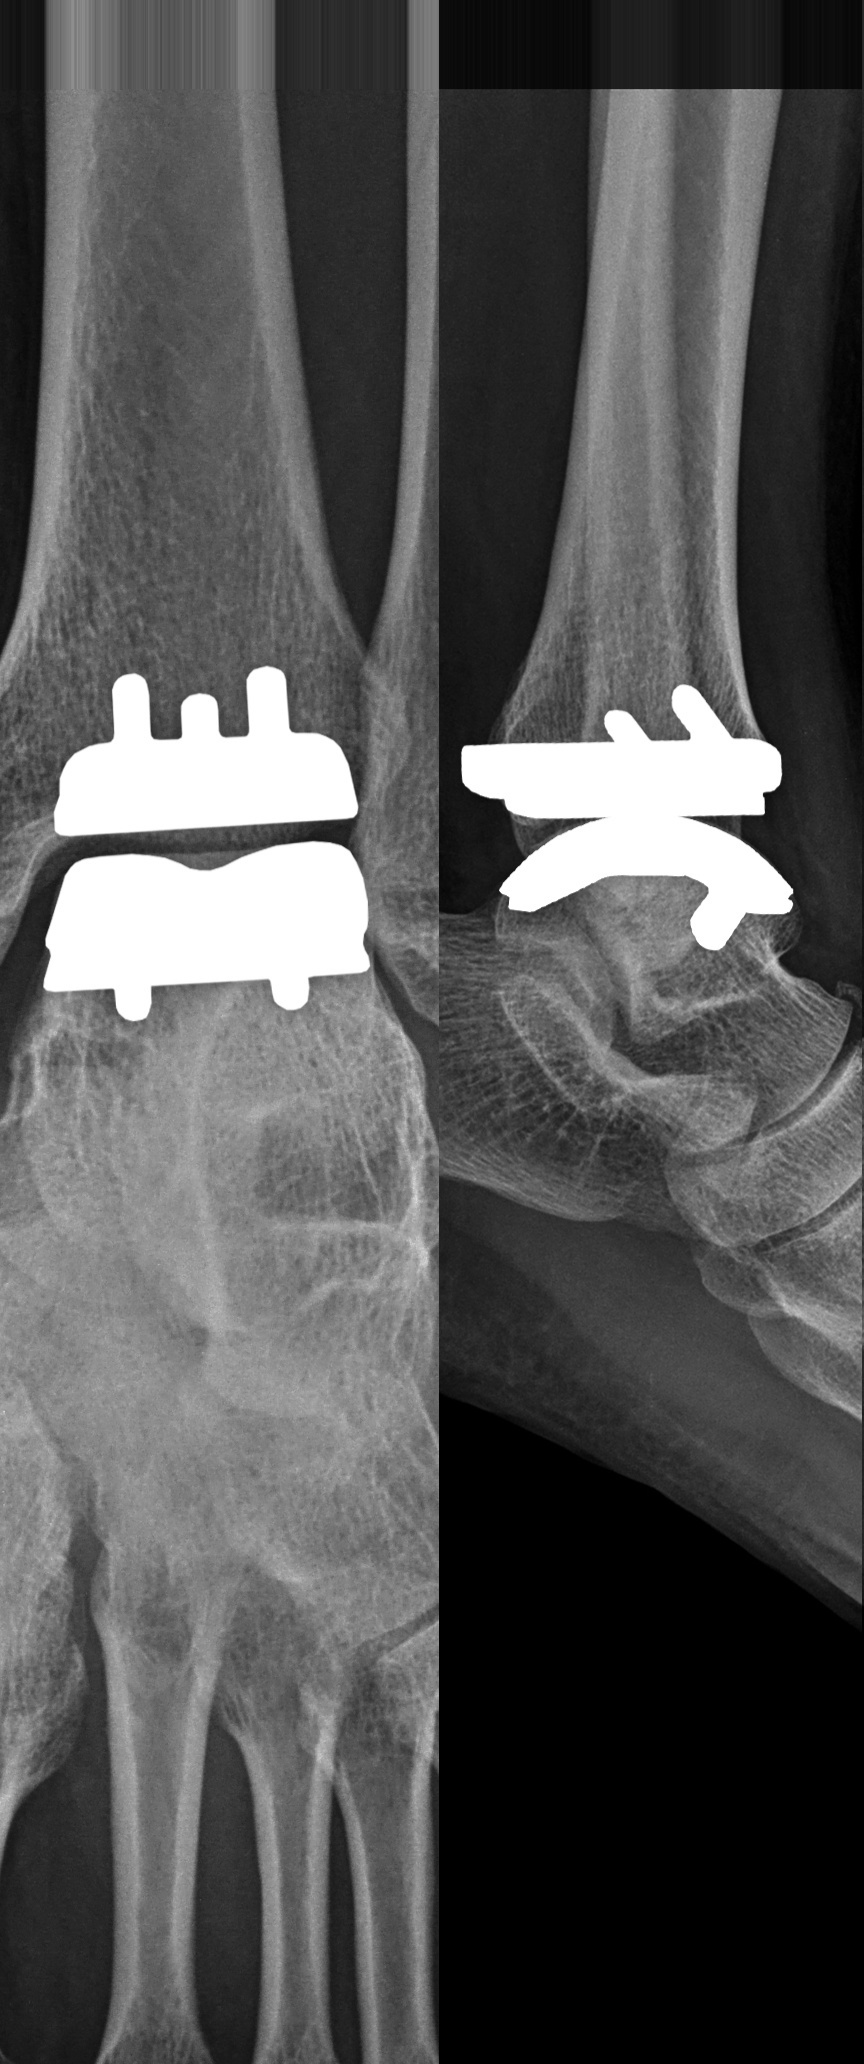Ankle - Infinity - Wright: (36, 648, 389, 1032), (450, 674, 811, 956)
